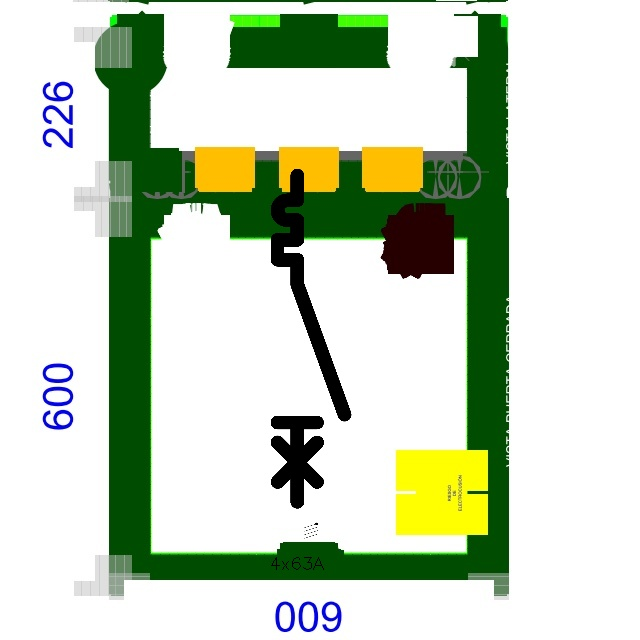interruptor_termomagnetico: (269, 167, 353, 510)
